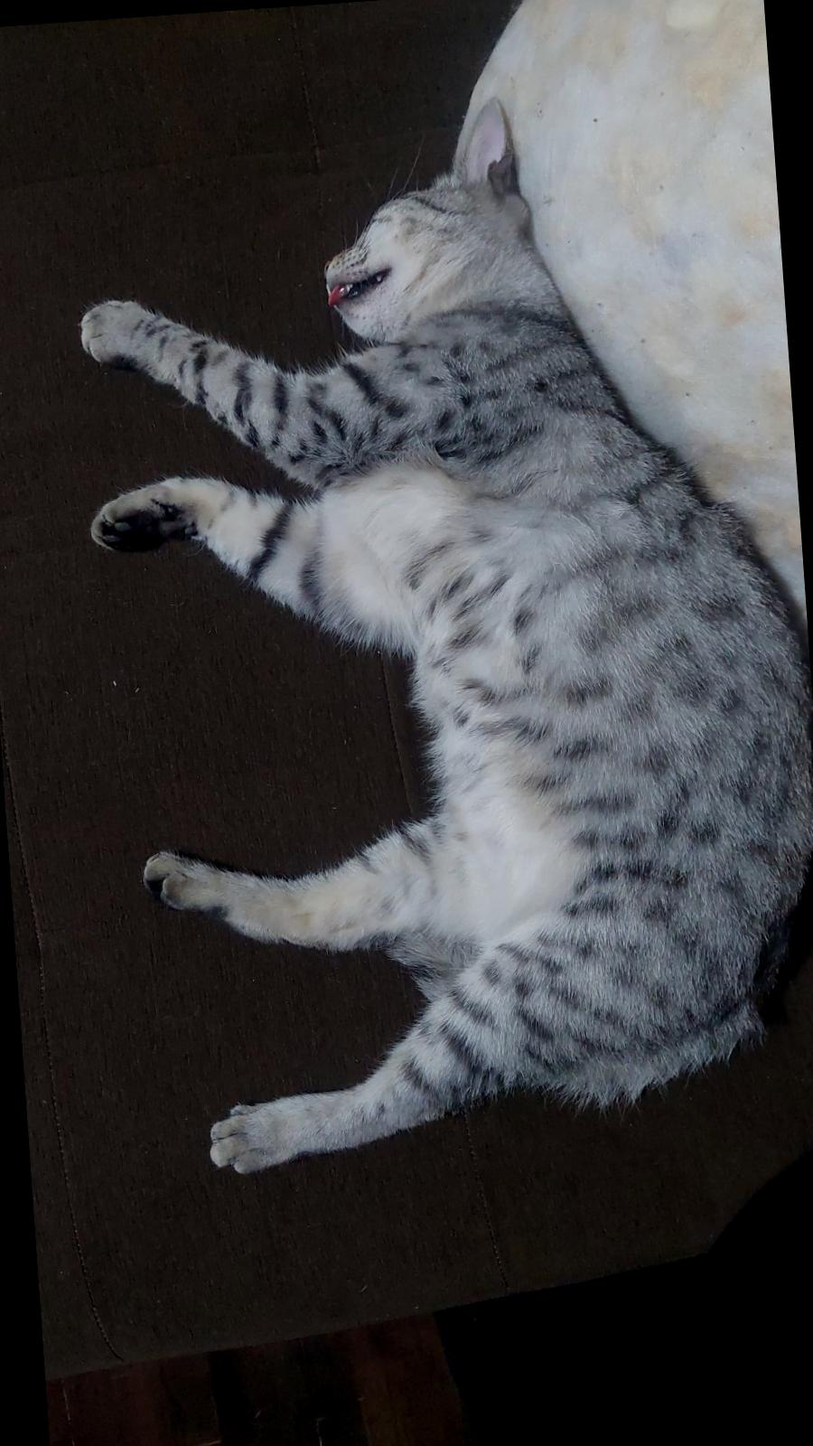macka: (61, 80, 813, 1188)
